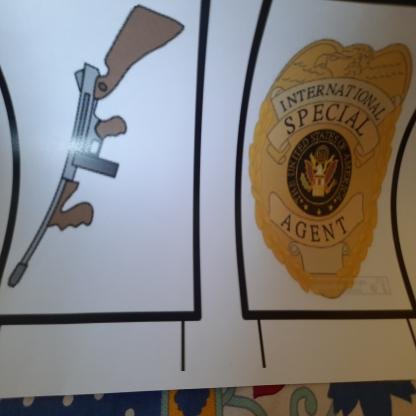Bootlegger: (6, 6, 193, 310)
G-man: (246, 21, 416, 311)
